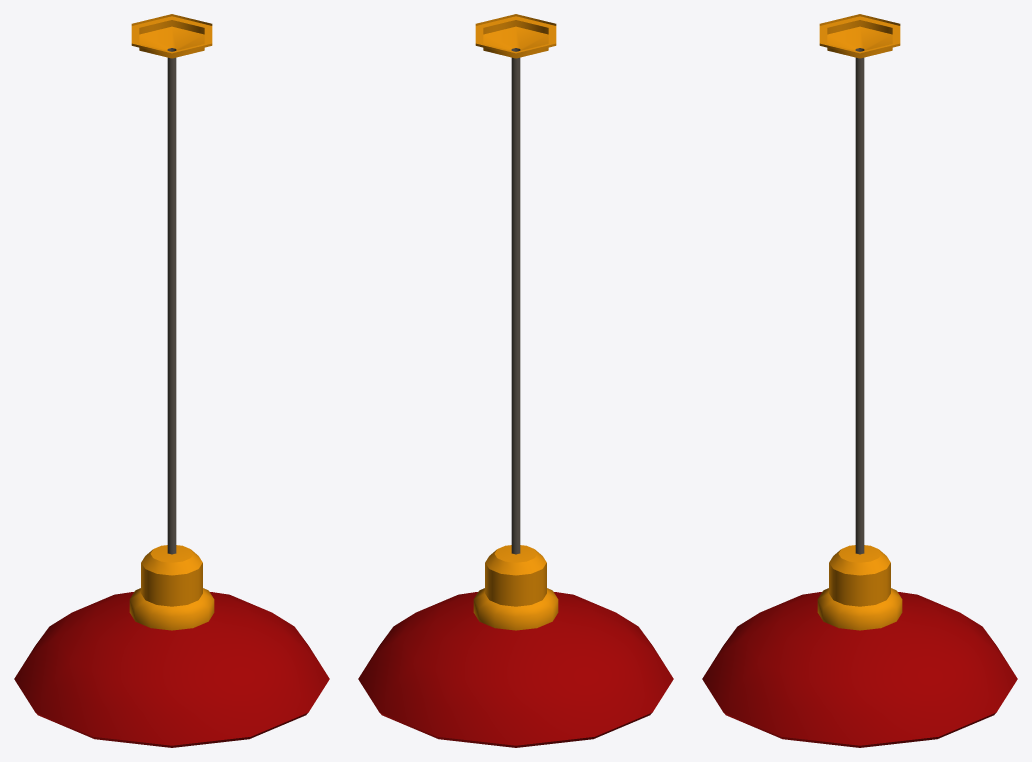
Rendered from HangingLight.fbx.
3 views of the same model, side by side, from view 1: azimuth 30°, elevation 25°; view 2: azimuth 150°, elevation 25°; view 3: azimuth 270°, elevation 25° (orthographic).
Parts seen in each view (by area): view 1: HangingLight_Geo; view 2: HangingLight_Geo; view 3: HangingLight_Geo.
Part boxes in pixels (box(x1,y1,x2,y2)): HangingLight_Geo: box(14, 14, 329, 747); HangingLight_Geo: box(358, 14, 673, 747); HangingLight_Geo: box(702, 14, 1017, 747).
Size of the model in its own units: 25.93 by 60.72 by 25.93.
